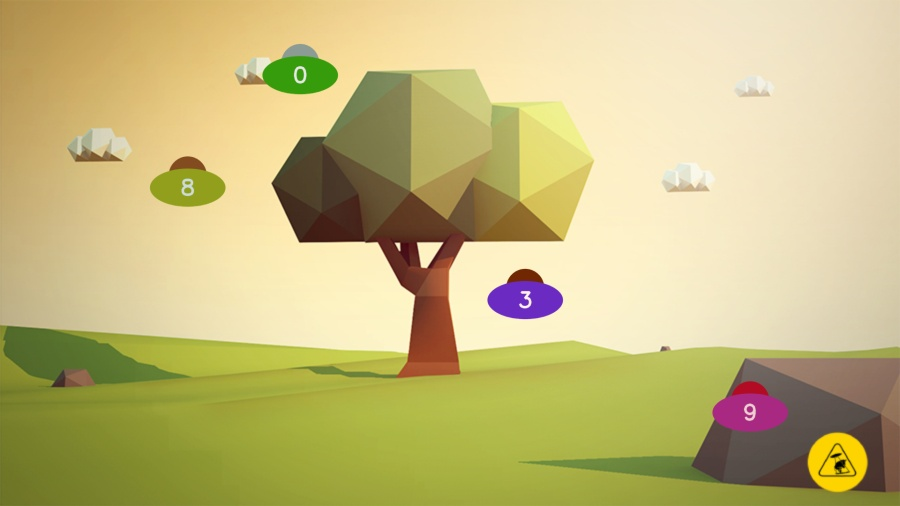ufo: (486, 268, 564, 320), (149, 155, 226, 207), (261, 44, 339, 95), (712, 381, 788, 432)
